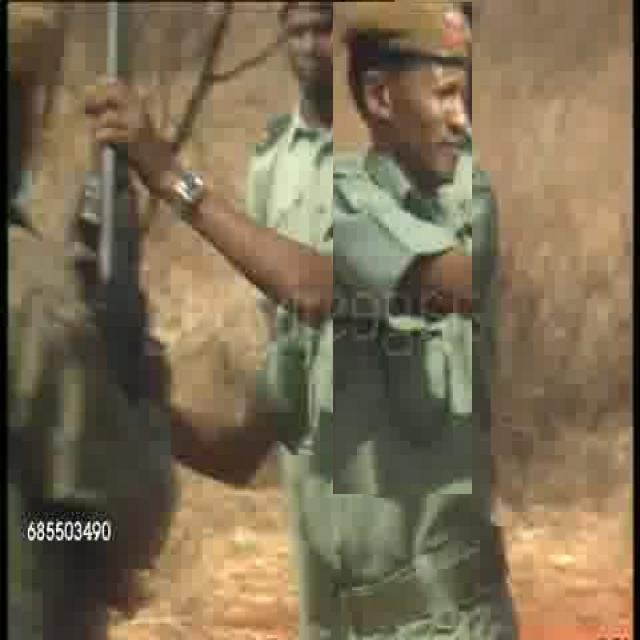poacher: (333, 2, 472, 494), (262, 2, 338, 152)
